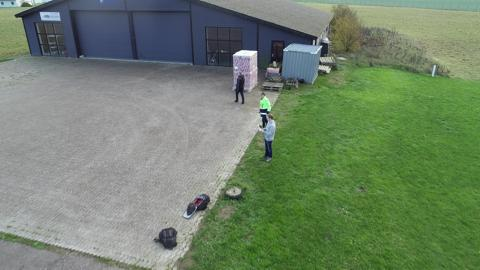RockwoolPallet: (232, 49, 260, 92)
